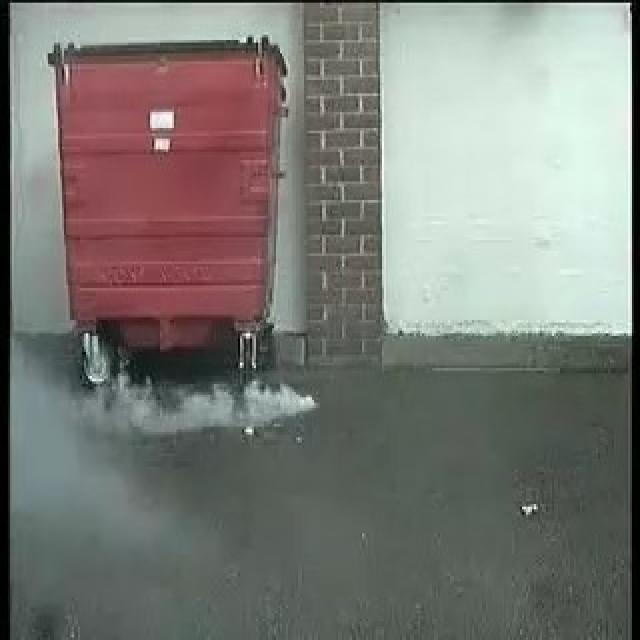smoke: (64, 379, 318, 440)
